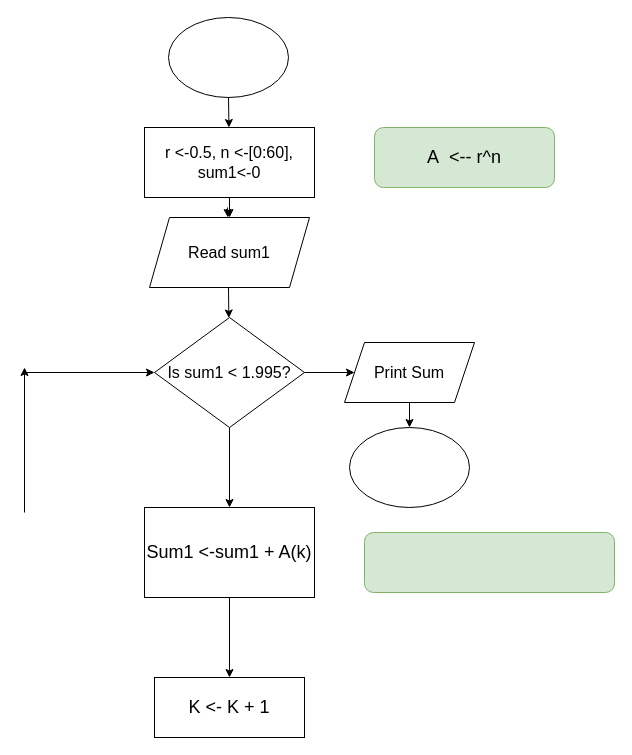
Some shapes in this 632 by 755 pixel diagram are drawn without their labels. Each missing label, with the centre of its shape:
"End" goes at pixel 409 467.
"K can be known as order of elements in the maxtrix 1x60(A)" goes at pixel 489 562.
"Star t" goes at pixel 228 57.
